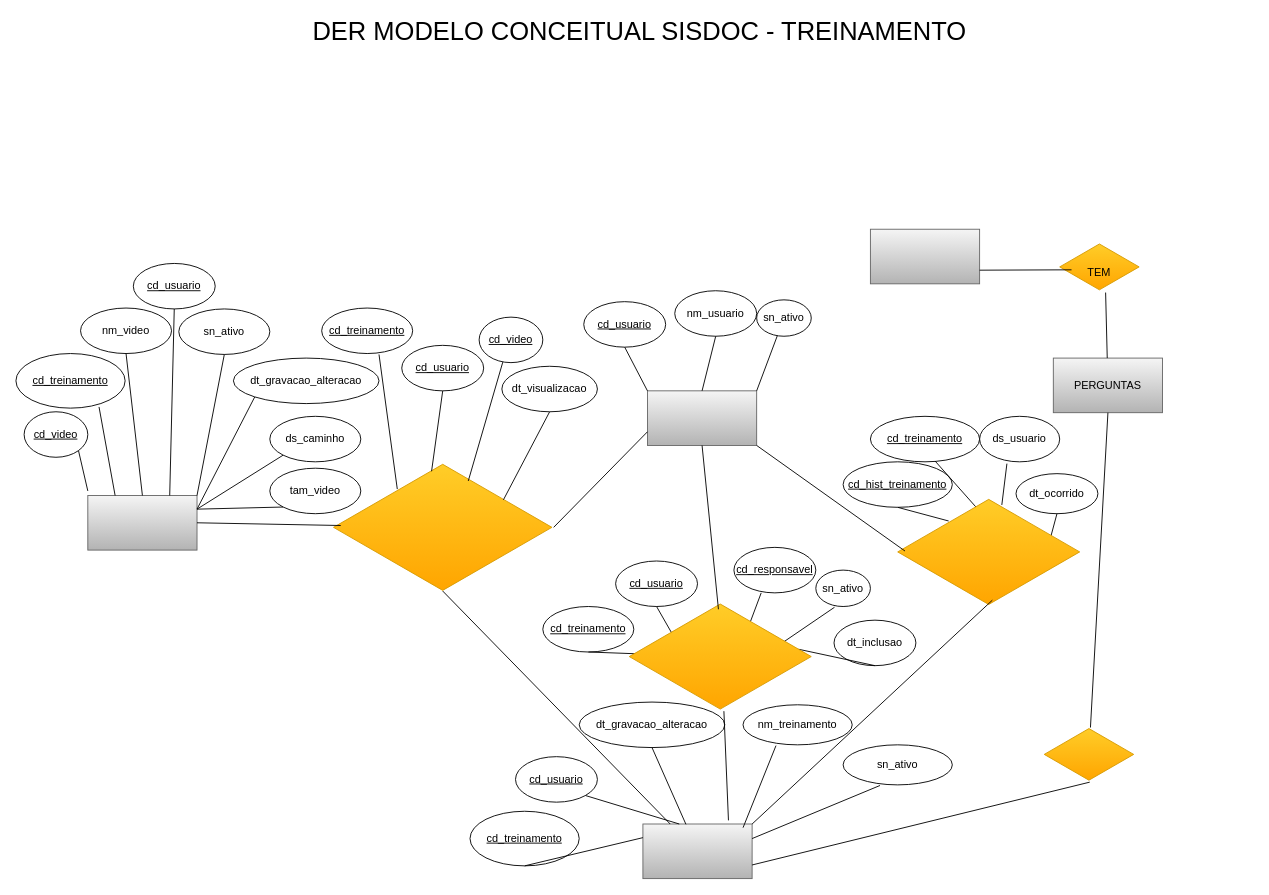
Image size: 1269x895. Some labels were removed from this diagram. Here are the shapes that lost their labels. From the top down, the centre of each, then its label:
the point at 925,256: RESPOSTAS
the point at 702,417: USUARIOS
the point at 142,522: VIDEO
the point at 442,527: USUARIOS_TREINAMENTOS_VIDEO
the point at 988,551: HIST_ALT_TREINAMENTO
the point at 719,656: USUARIOS_TREINAMENTOS
the point at 1088,754: POSSUEM
the point at 697,851: TREINAMENTO
